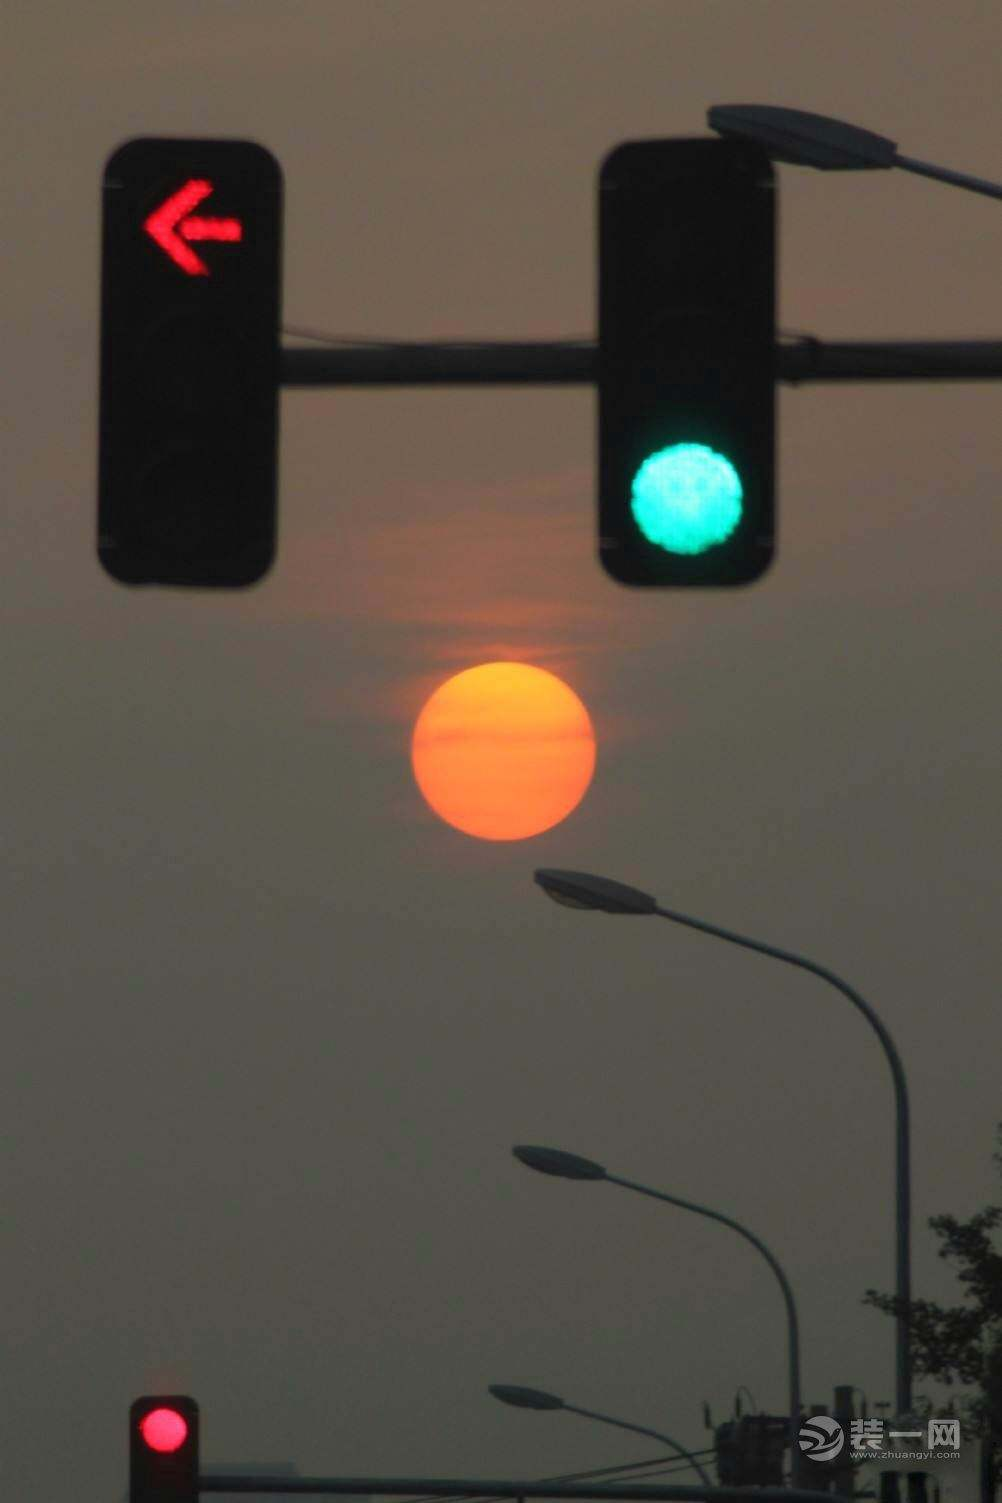green: (592, 130, 792, 594)
red: (95, 125, 297, 607)
